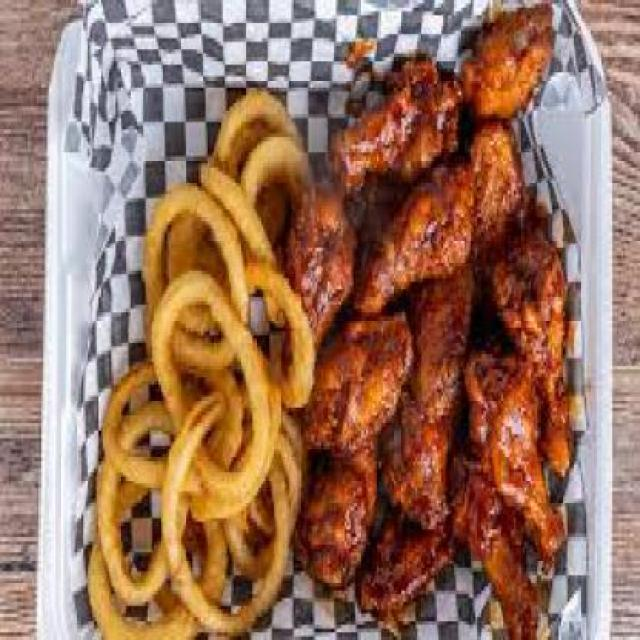onion rings: (86, 65, 328, 637)
